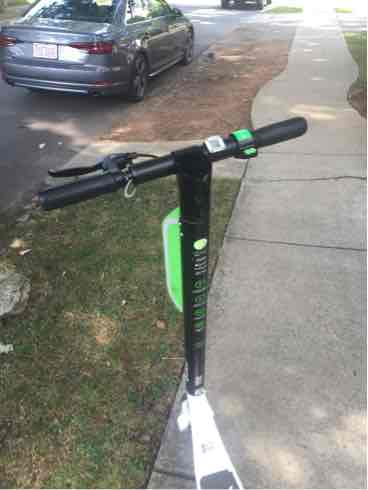scooter: (27, 113, 326, 490)
